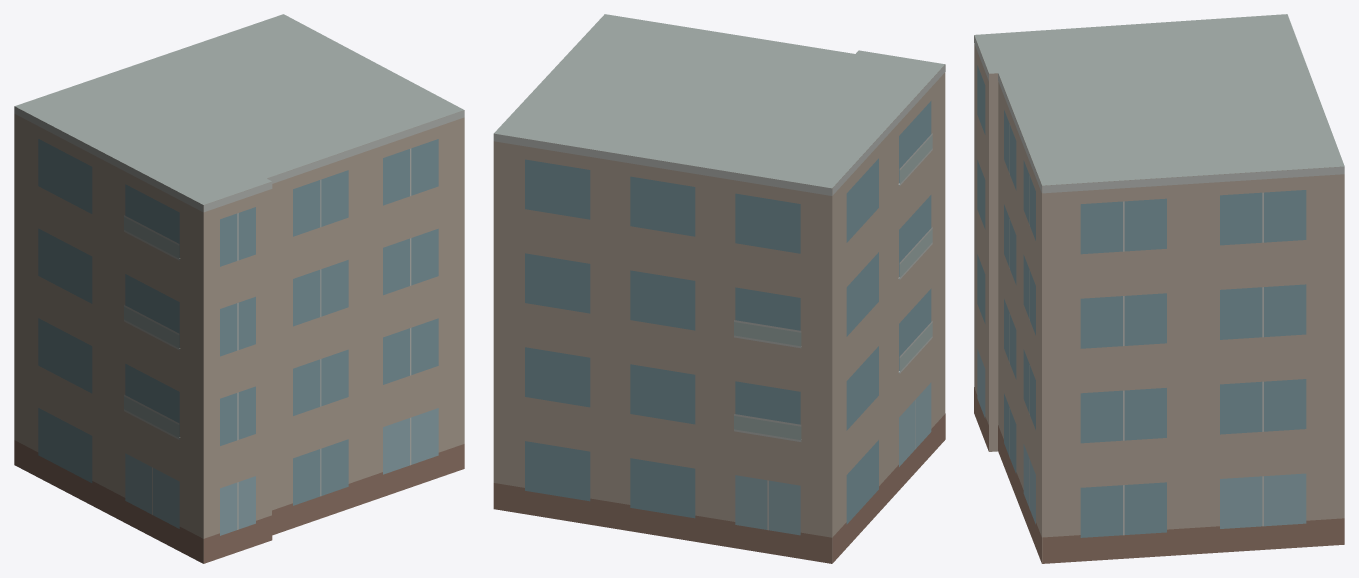
The model's file is survey-upis-32991832.glb.
3 renders of one model, left to right at view 1: azimuth 30°, elevation 25°; view 2: azimuth 150°, elevation 25°; view 3: azimuth 270°, elevation 25°, orthographic. The views are drawn at different scales.
Visible parts, largest first — view 1: survey-upis-32991832.tmp; view 2: survey-upis-32991832.tmp; view 3: survey-upis-32991832.tmp.
Part boxes in pixels (x1,y1,x2,y2): survey-upis-32991832.tmp: [14, 14, 464, 563]; survey-upis-32991832.tmp: [493, 14, 945, 563]; survey-upis-32991832.tmp: [974, 14, 1344, 563].
Size of the model in its own units: 11.59 by 11.9 by 10.58.
